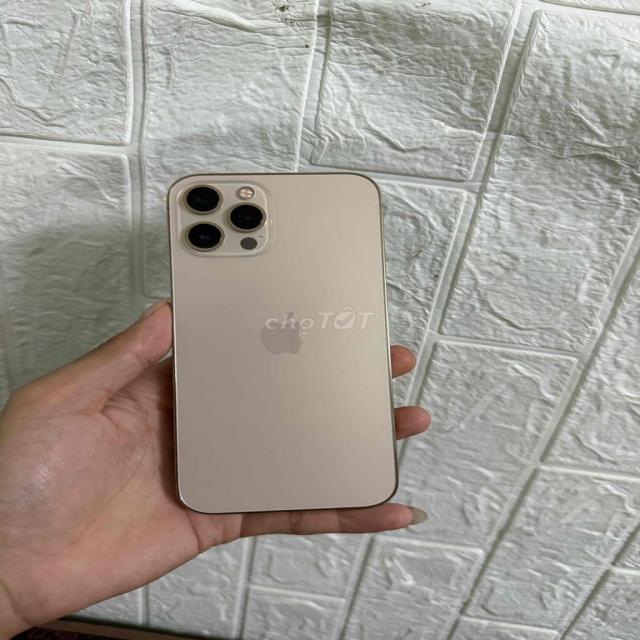gen_12_13: (162, 168, 402, 517)
